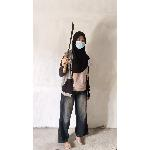Golok: (57, 21, 78, 75)
